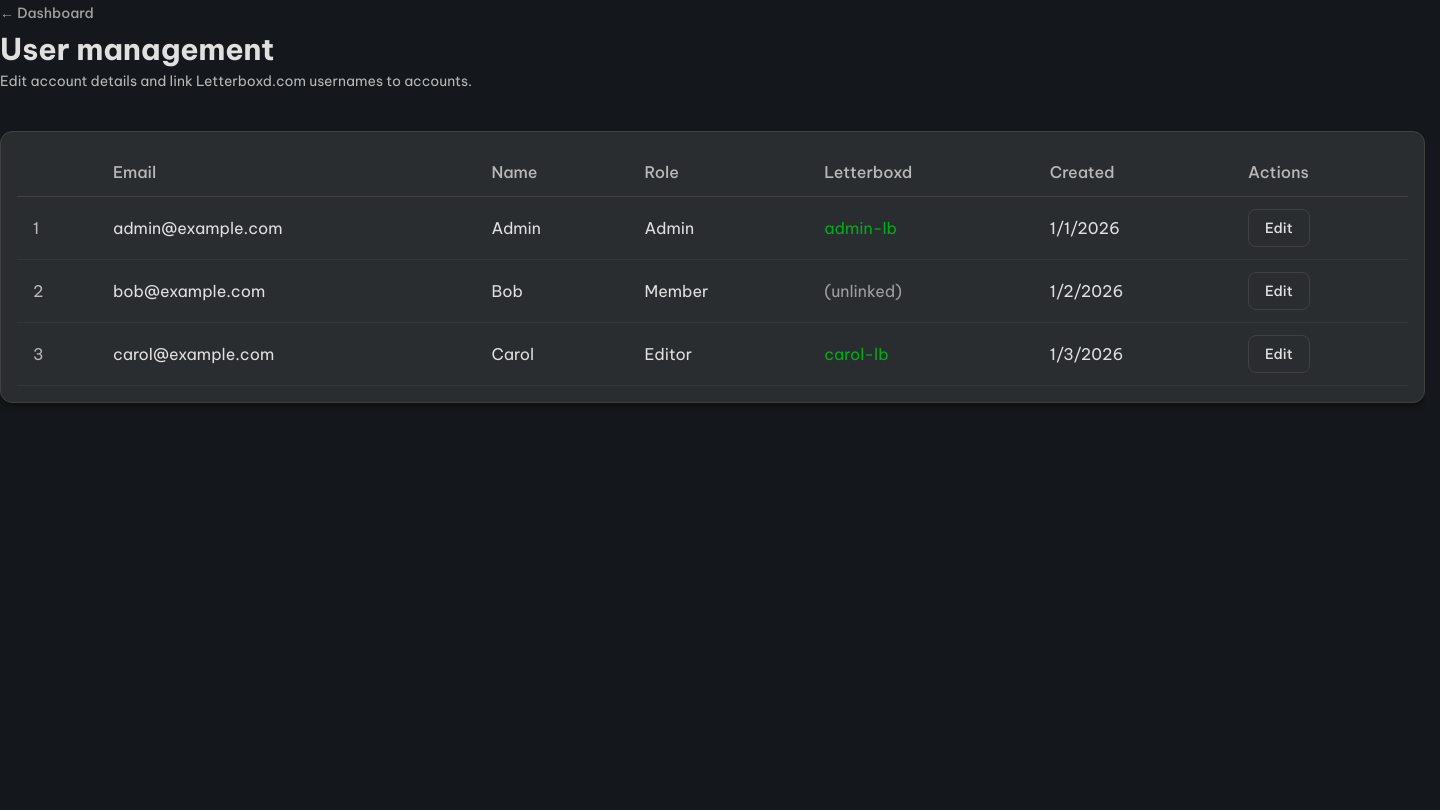
Test: UserAdmin — edit flow › changes a user's role and sends it in the patch
The image size is (1440, 810).
Expected: the text "bob@example.com" is shown, [97,260,475,322]
Click the button "Edit" in the row of "bob@example.com" at coordinates (1279, 291), box [1248,272,1310,310]
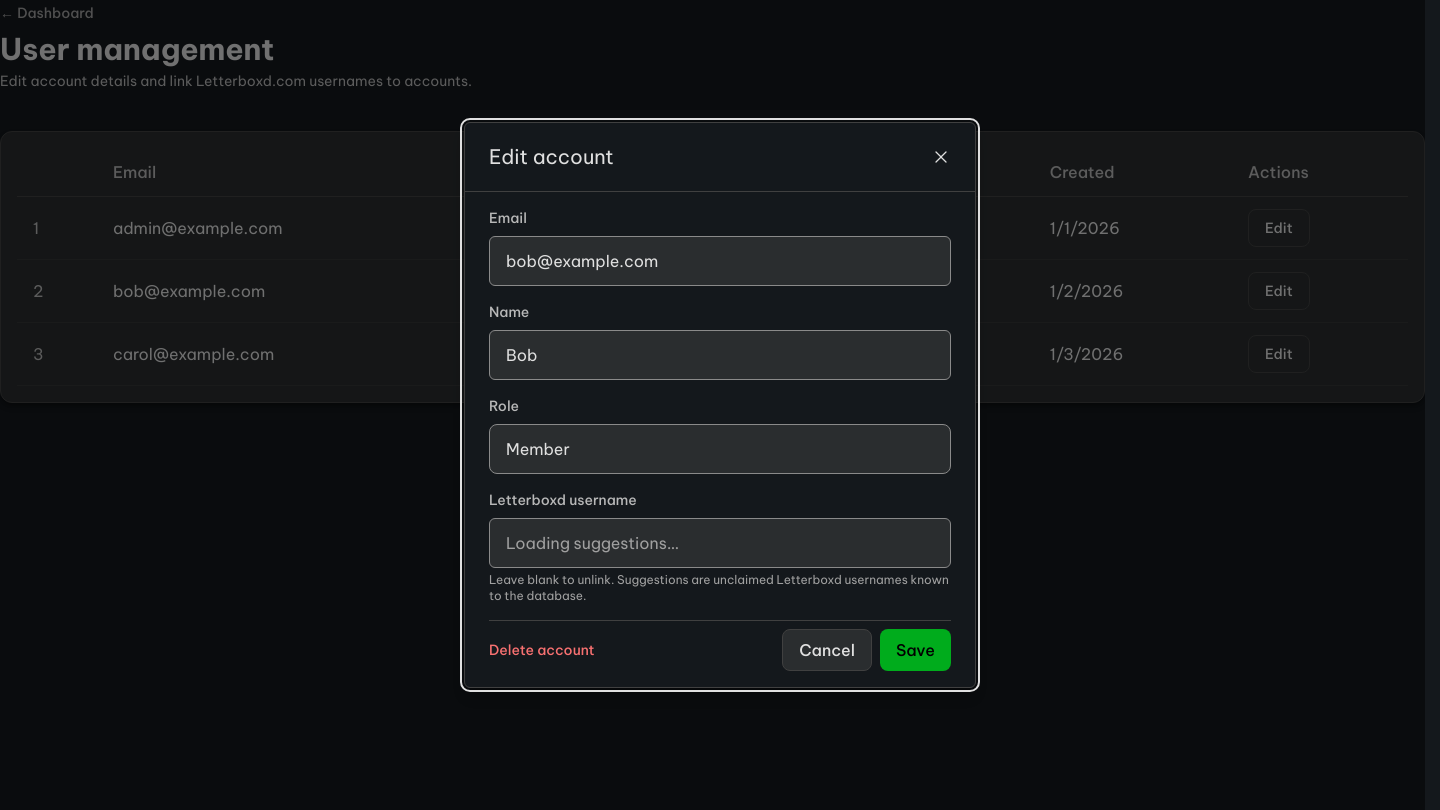
Select "Editor" in the dropdown labelled "Role" at coordinates (720, 449), box [489,424,951,474]
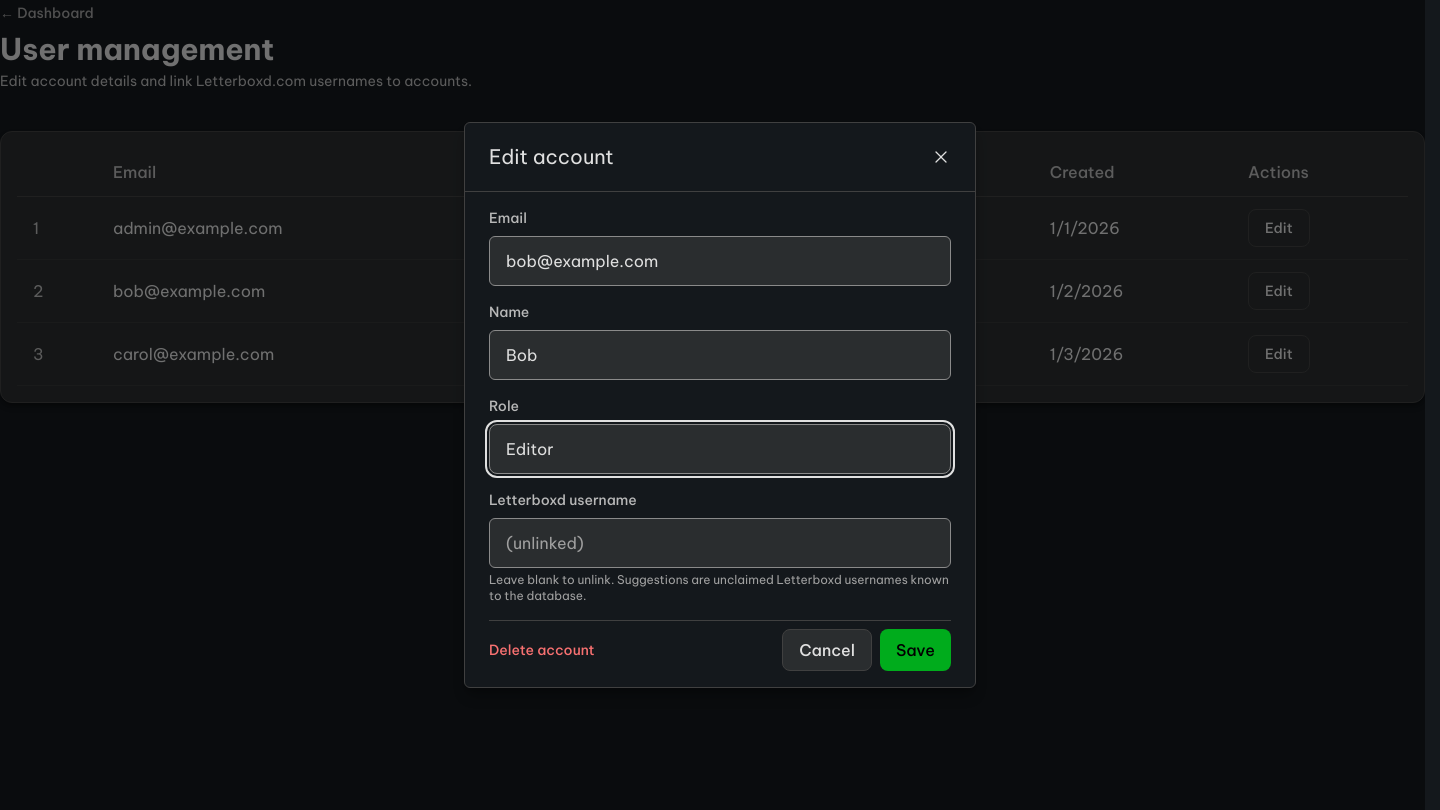
Click the button "Save" at coordinates (916, 650), box [880,629,951,671]
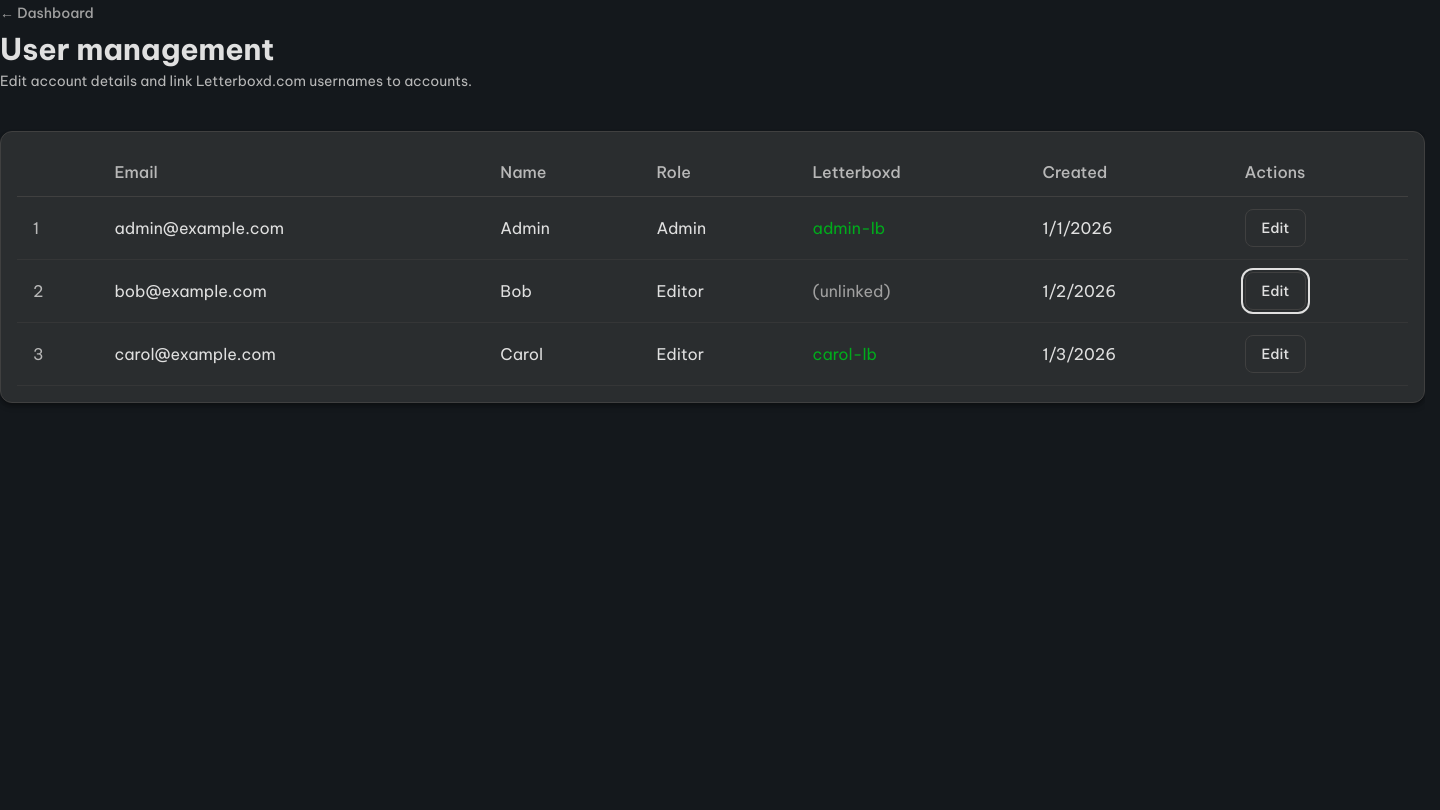
Result: the text "editor" in the row of "bob@example.com" is shown at [656,281,704,301]
